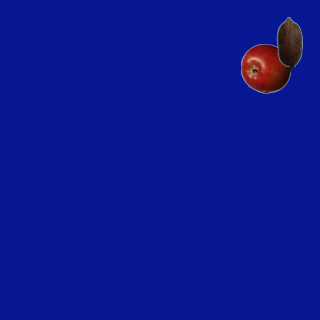Apple Braeburn: (240, 43, 290, 93)
Nut Pecan: (264, 16, 314, 66)
